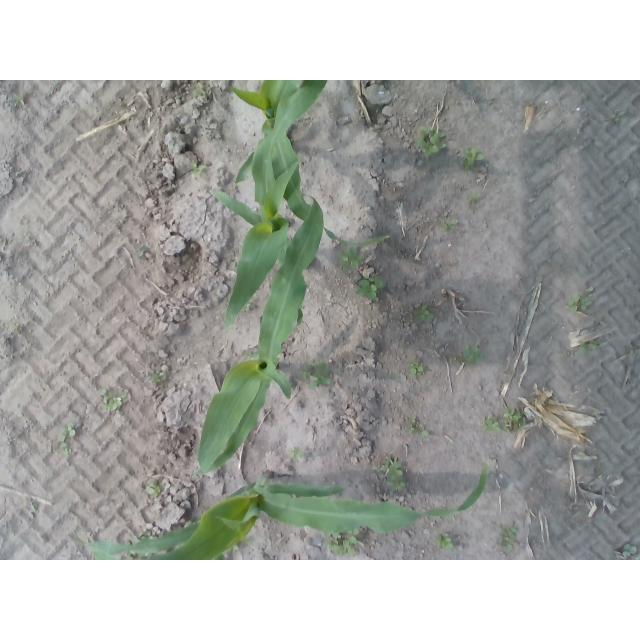Maize: (73, 469, 487, 559), (196, 192, 324, 478), (227, 80, 389, 246), (209, 161, 300, 332)
Weeds: (304, 363, 331, 387), (419, 132, 439, 160), (341, 247, 364, 271), (460, 148, 483, 171), (499, 527, 518, 554), (100, 389, 124, 407), (570, 293, 593, 311), (359, 278, 378, 299), (388, 462, 405, 482), (502, 409, 522, 424), (334, 541, 355, 555), (436, 533, 452, 549), (190, 165, 206, 180), (442, 211, 457, 226), (484, 419, 500, 433), (468, 195, 484, 209), (579, 342, 597, 354), (421, 309, 436, 322), (610, 111, 625, 124), (463, 348, 477, 361), (146, 484, 160, 496), (151, 373, 167, 383), (410, 362, 423, 374), (194, 83, 206, 95), (373, 275, 386, 286), (57, 437, 68, 448), (349, 531, 360, 542), (68, 426, 77, 437), (289, 448, 299, 457), (410, 419, 417, 431), (395, 481, 405, 489), (64, 449, 72, 456), (422, 430, 430, 436)
